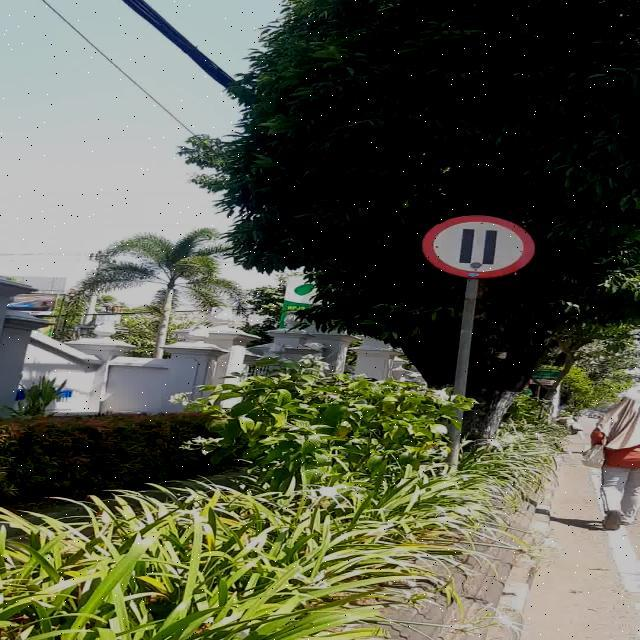Larangan Muatan - 10 ton: (422, 215, 534, 278)
